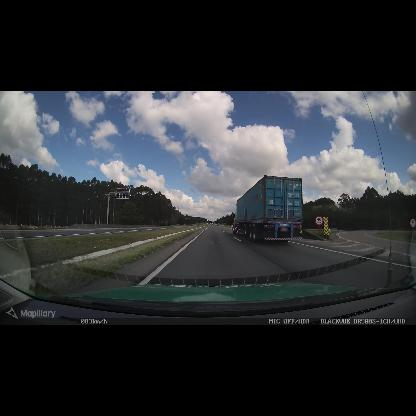O-MP: (323, 217, 329, 235)
R-19: (315, 216, 324, 226), (410, 218, 416, 228)
